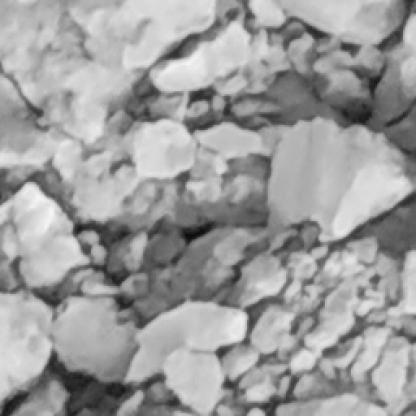cementitious_debris: (3, 3, 414, 413)
